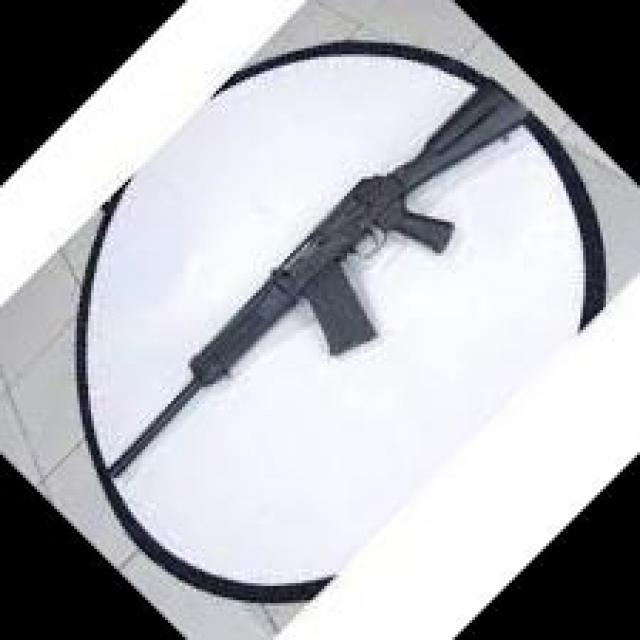weapon: (104, 79, 526, 481)
